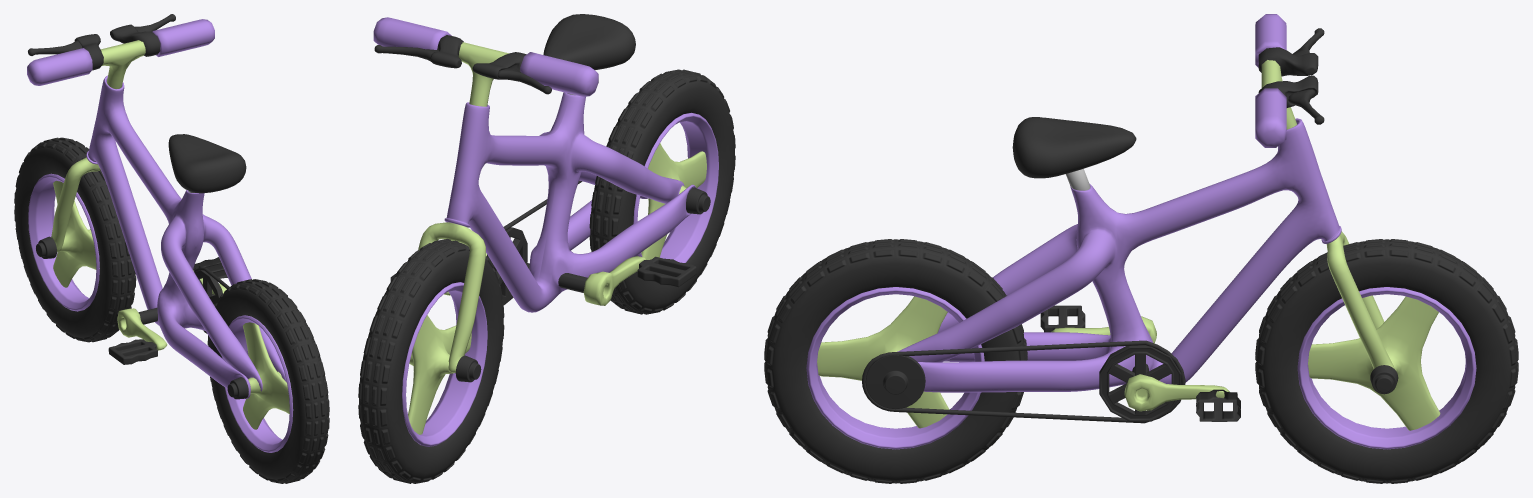
Rendered from Bicycle.fbx.
The picture shows the model from 3 angles, left to right: view 1: azimuth 30°, elevation 25°; view 2: azimuth 150°, elevation 25°; view 3: azimuth 270°, elevation 25°; orthographic projection. The views are drawn at different scales.
Visible parts, largest first — view 1: Plane.001, Cylinder.002, Cylinder.001, Cube, Cylinder.005, Plane.003_Plate.001, Circle.001, Cylinder.006, Circle, Plane.002, Plane.004, Plane.003 (+7 smaller); view 2: Plane.001, Cylinder.001, Cylinder.002, Cylinder.005, Plane.003_Plate.001, Cube, Cylinder.006, Circle, Plane.002, Circle.001, Plane.004, Cube.002 (+7 smaller); view 3: Plane.001, Cylinder.001, Cylinder.002, Circle, Cylinder.005, Cylinder.006, Cube, Circle.001, Cylinder.004_Curve, Circle.003, Plane.002, Plane.003_Plate.001 (+6 smaller).
Part boxes in pixels (x1,y1,x2,y2): Plane.001: [86, 75, 286, 398]; Cylinder.002: [207, 279, 329, 483]; Cylinder.001: [14, 137, 136, 342]; Cube: [168, 134, 246, 193]; Cylinder.005: [28, 173, 99, 311]; Plane.003_Plate.001: [27, 19, 214, 85]; Circle.001: [243, 322, 289, 429]; Cylinder.006: [221, 315, 293, 452]; Circle: [53, 181, 96, 287]; Plane.002: [51, 157, 100, 252]; Plane.004: [74, 24, 160, 70]; Plane.003: [100, 40, 145, 88]; Plane.001: [444, 92, 696, 312]; Cylinder.001: [358, 239, 504, 483]; Cylinder.002: [589, 69, 735, 314]; Cylinder.005: [402, 282, 487, 446]; Plane.003_Plate.001: [373, 17, 598, 96]; Cube: [543, 14, 635, 70]; Cylinder.006: [633, 112, 718, 262]; Circle: [408, 315, 471, 434]; Plane.002: [418, 222, 485, 373]; Circle.001: [641, 143, 706, 259]; Plane.004: [430, 35, 526, 79]; Cube.002: [583, 256, 646, 305]; Plane.001: [897, 118, 1341, 392]; Cylinder.001: [1255, 239, 1518, 483]; Cylinder.002: [764, 239, 1027, 483]; Circle: [1308, 296, 1440, 430]; Cylinder.005: [1297, 287, 1476, 449]; Cylinder.006: [806, 287, 984, 449]; Cube: [1012, 117, 1136, 178]; Circle.001: [817, 296, 949, 428]; Cylinder.004_Curve: [862, 340, 1185, 423]; Circle.003: [1099, 345, 1181, 421]; Plane.002: [1326, 231, 1394, 369]; Plane.003_Plate.001: [1255, 14, 1286, 147].
Size of the model in its own units: 174 by 295 by 487.
